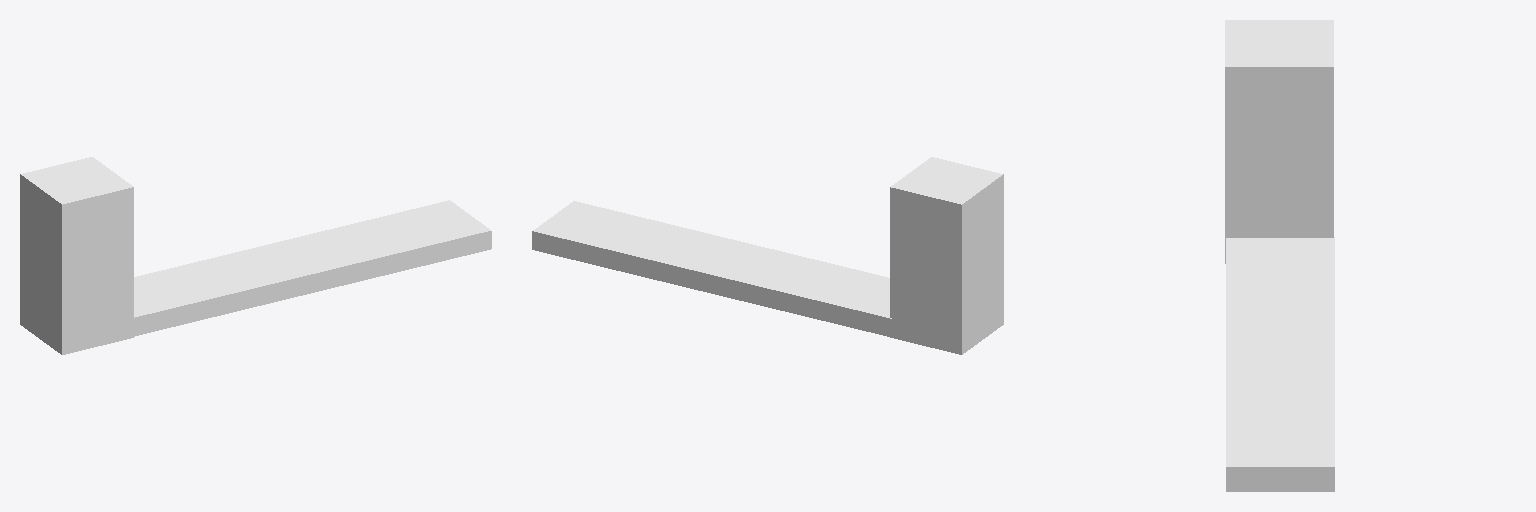
The robot description file, URDF, robot "cliff":
<?xml version="1.0"?>
<robot name="cliff">
  <link name="base_link">
    <visual>
      <origin xyz="0 0 0"/>
      <geometry>
        <mesh filename="package://hpp-rbprm-corba/meshes/cliff.stl"/>
      </geometry>
      <material name="white">
        <color rgba="1 1 1 1"/>
      </material>
    </visual>
    <collision>
      <origin xyz="0 0 0"/>
      <geometry>
        <mesh filename="package://hpp-rbprm-corba/meshes/cliff_panel.stl"/>
      </geometry>
    </collision>
  </link>
</robot>

--- Render facts (derived) ---
Views: 3 orthographic renders of the robot side by side, from view 1: azimuth 30°, elevation 25°; view 2: azimuth 150°, elevation 25°; view 3: azimuth 270°, elevation 25°.
Model cliff with 1 links and 0 joints (none), rooted at base_link, posed all joints at 0.
Links seen in each view (by area): view 1: base_link; view 2: base_link; view 3: base_link.
Boxes of the visible links, <box> form: base_link: <box>20,157,491,354</box>; base_link: <box>532,157,1003,354</box>; base_link: <box>1225,20,1334,491</box>.
Size in the robot's own frame: 11.94 by 2.02 by 4 metres.
Meshes: 1 distinct files referenced, 1 mesh visuals loaded (1 binary STL).